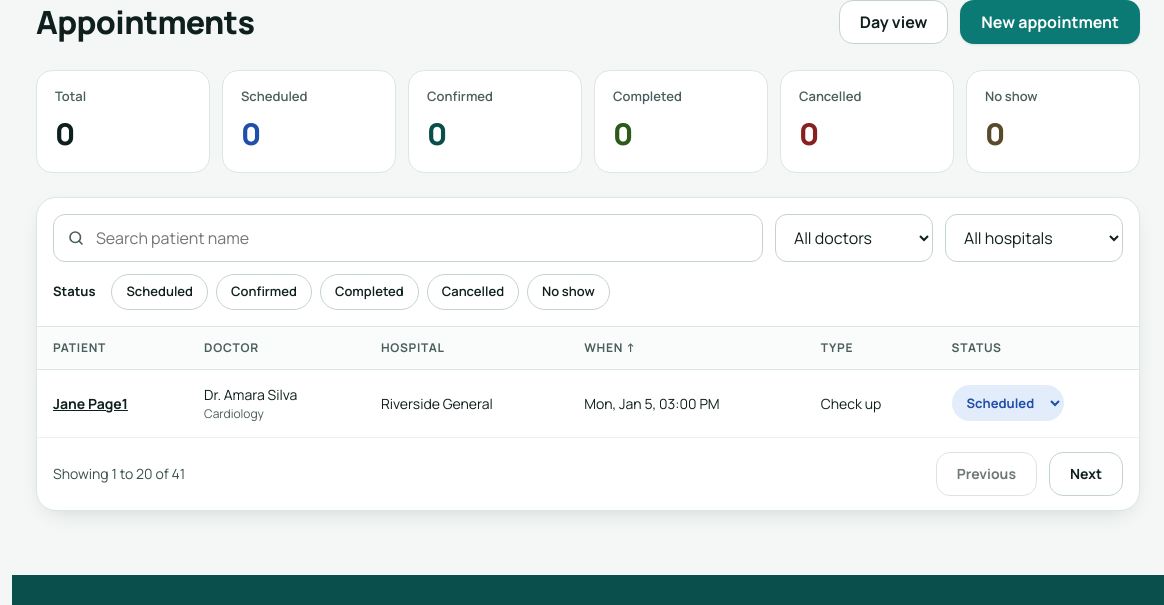
Test case: appointments list › sorts by clicking a column header
This screenshot has width=1164, height=605.
Expected: the link "Jane Page1" is shown, [53,394,128,412]
Click the button "Patient". click: (80, 348)
box: [53,338,106,356]
(page scrolled)
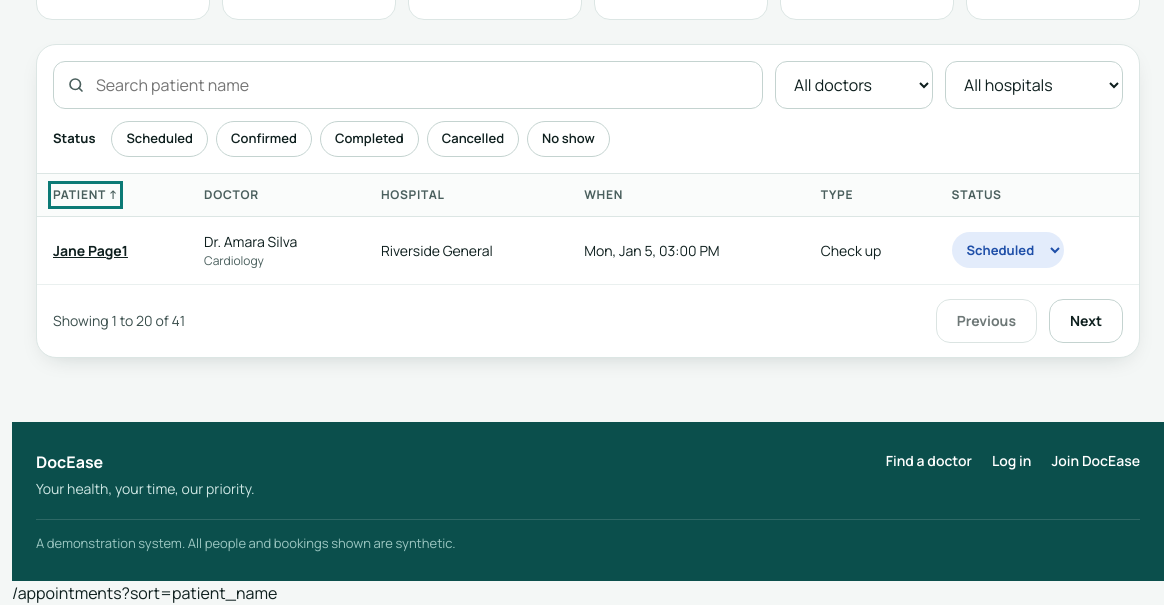
Expected: the text with test id "location" reads "/appointments?sort=patient_name", [12,582,277,604]
